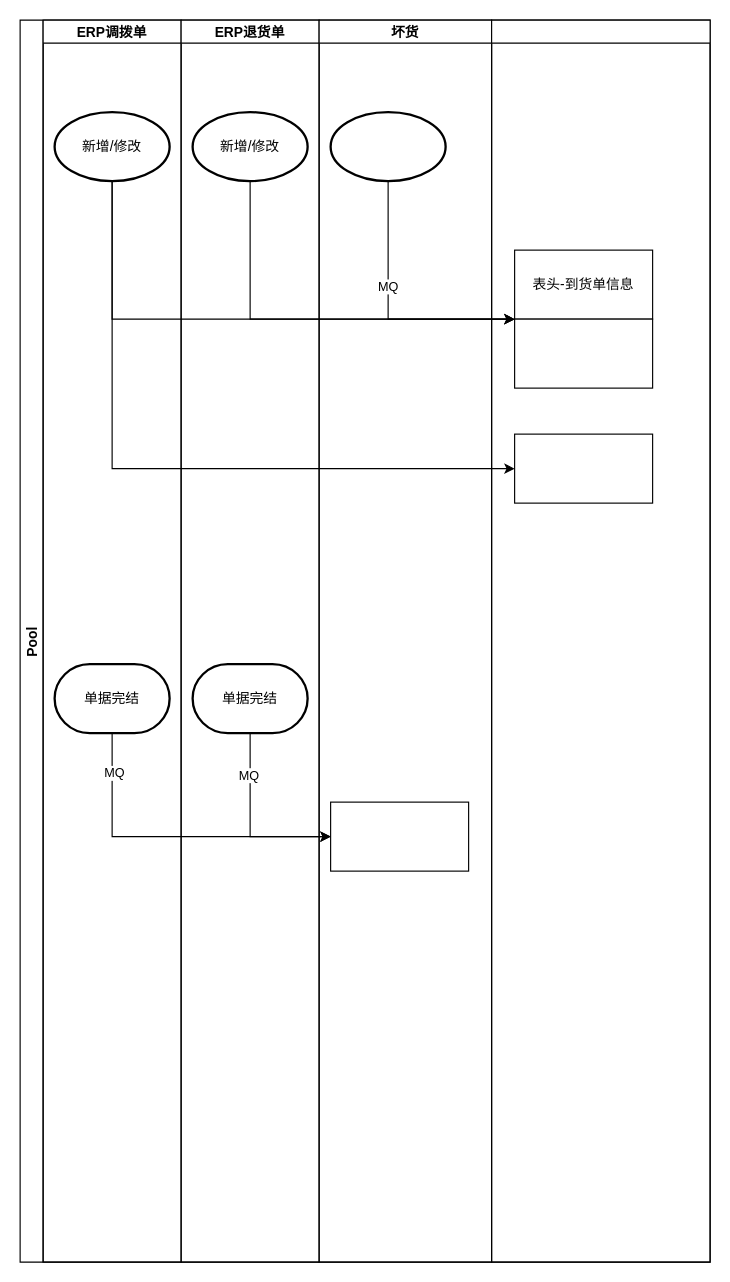
This 730x1282 diagram has some shape labels left out. Here are the shapes that lost their labels. From the top down, the box of each, then its label:
(329, 110, 446, 182): 新增/删除
(513, 318, 653, 388): 明细-业务单信息
(513, 433, 653, 503): 溯源-原始到货单信息
(490, 19, 710, 1262): ERP到货分摊信息表
(329, 801, 469, 871): 扣款记录
